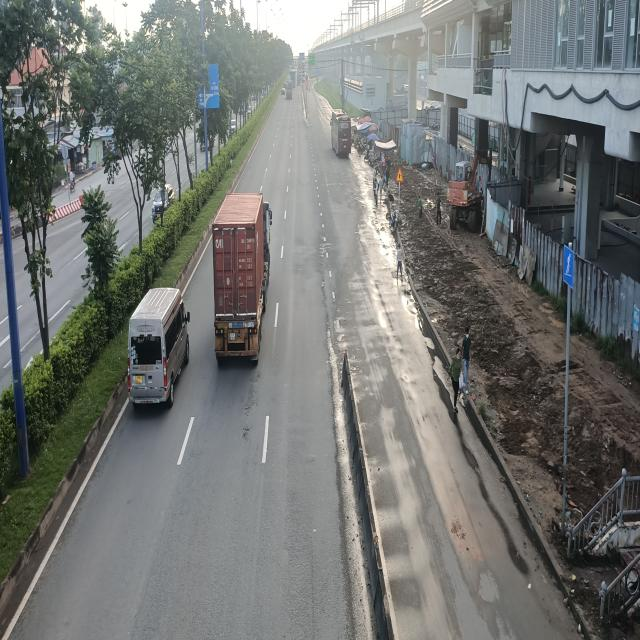coach: (330, 111, 353, 155)
container: (210, 195, 271, 368)
van: (127, 288, 192, 412)
